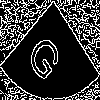G: (24, 25, 69, 86)
